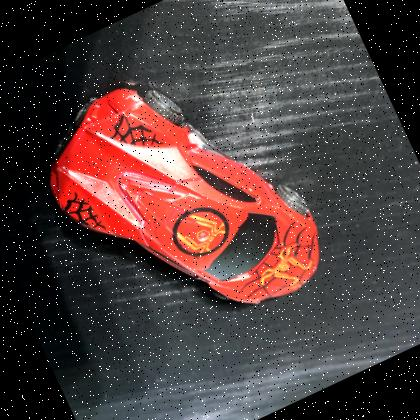Car: (48, 81, 320, 304)
